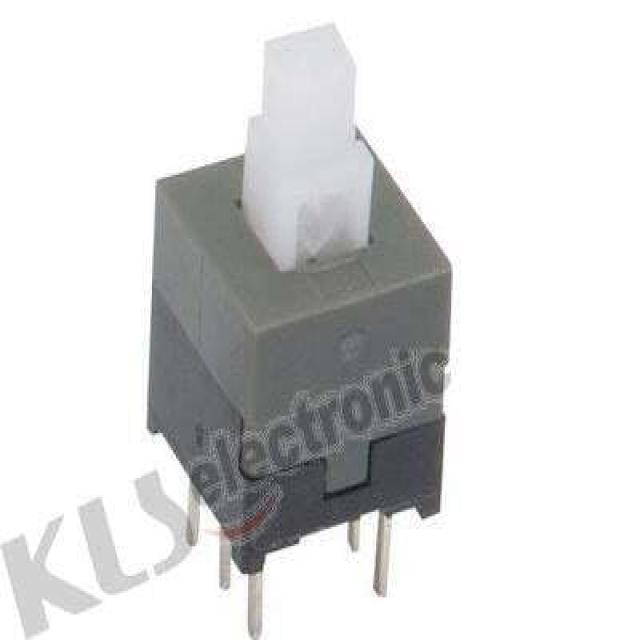switch: (131, 32, 466, 629)
